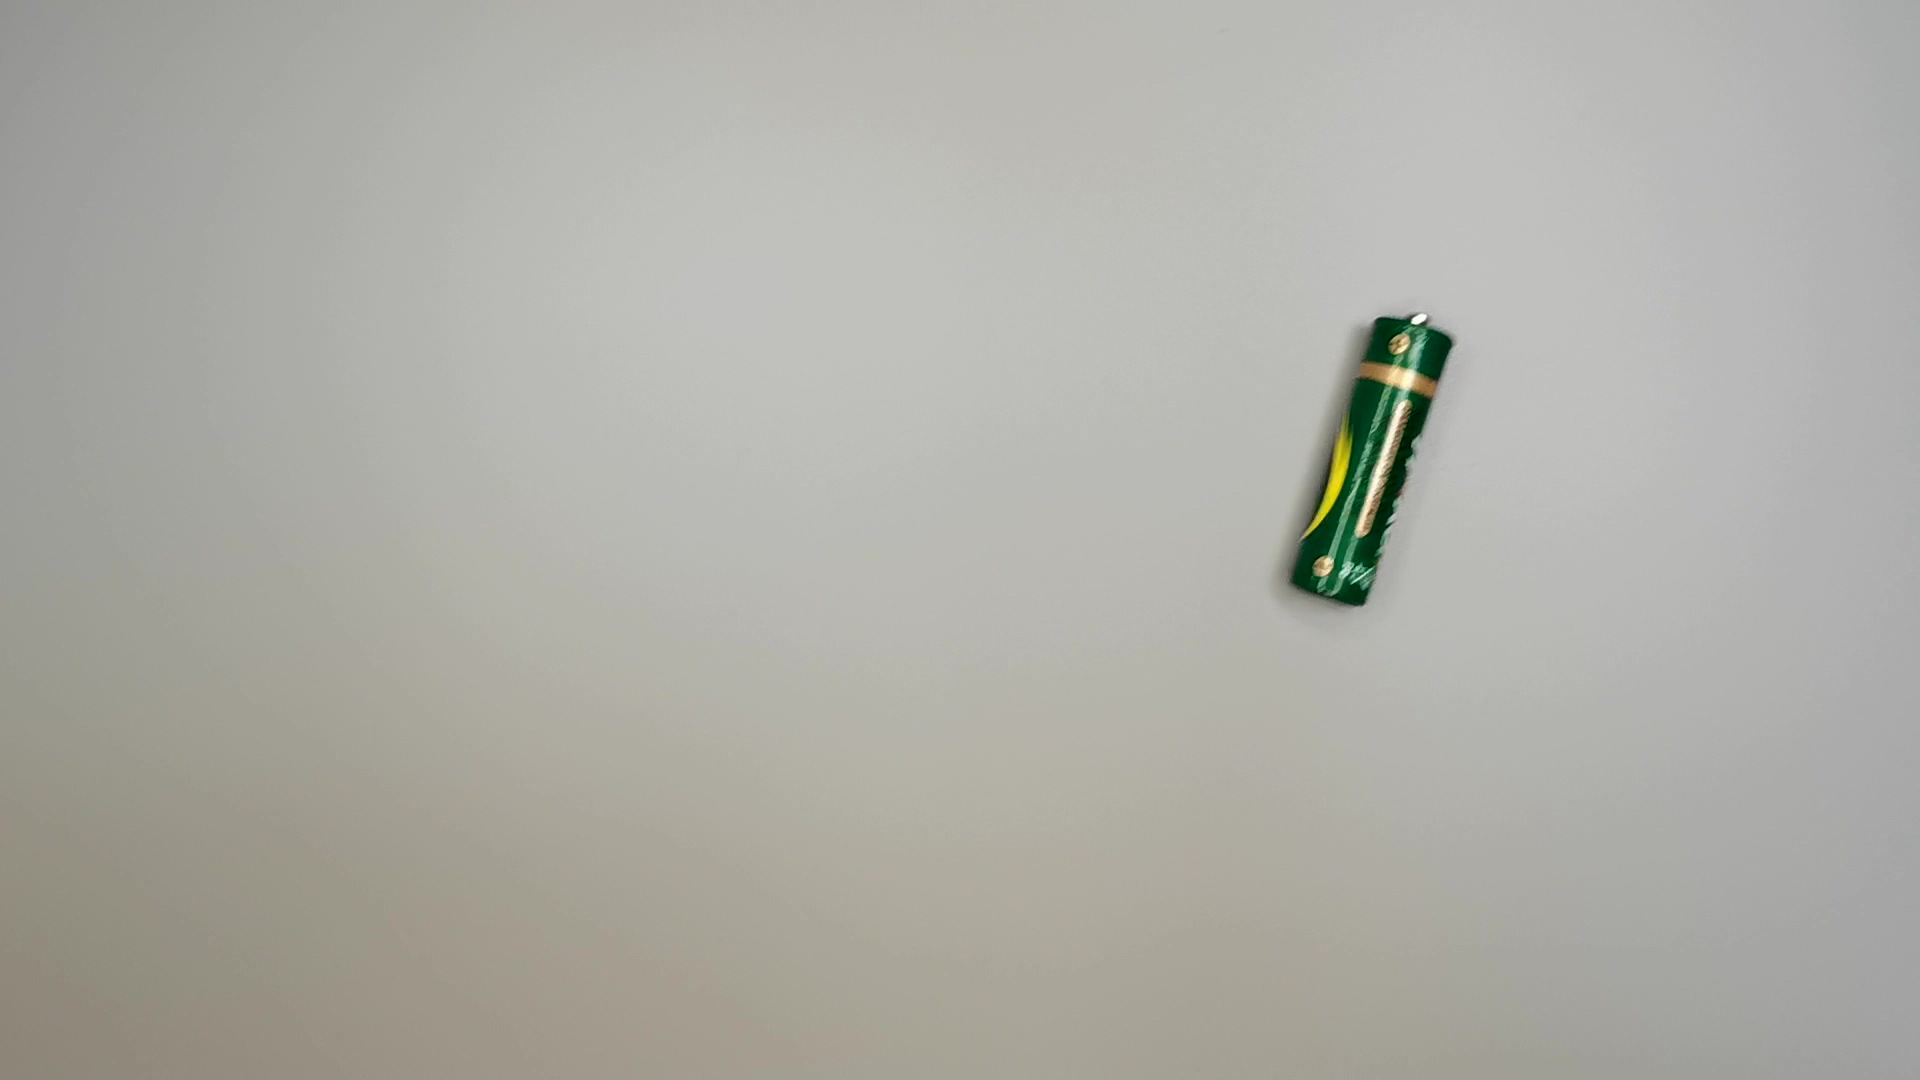battery: (1280, 309, 1466, 613)
